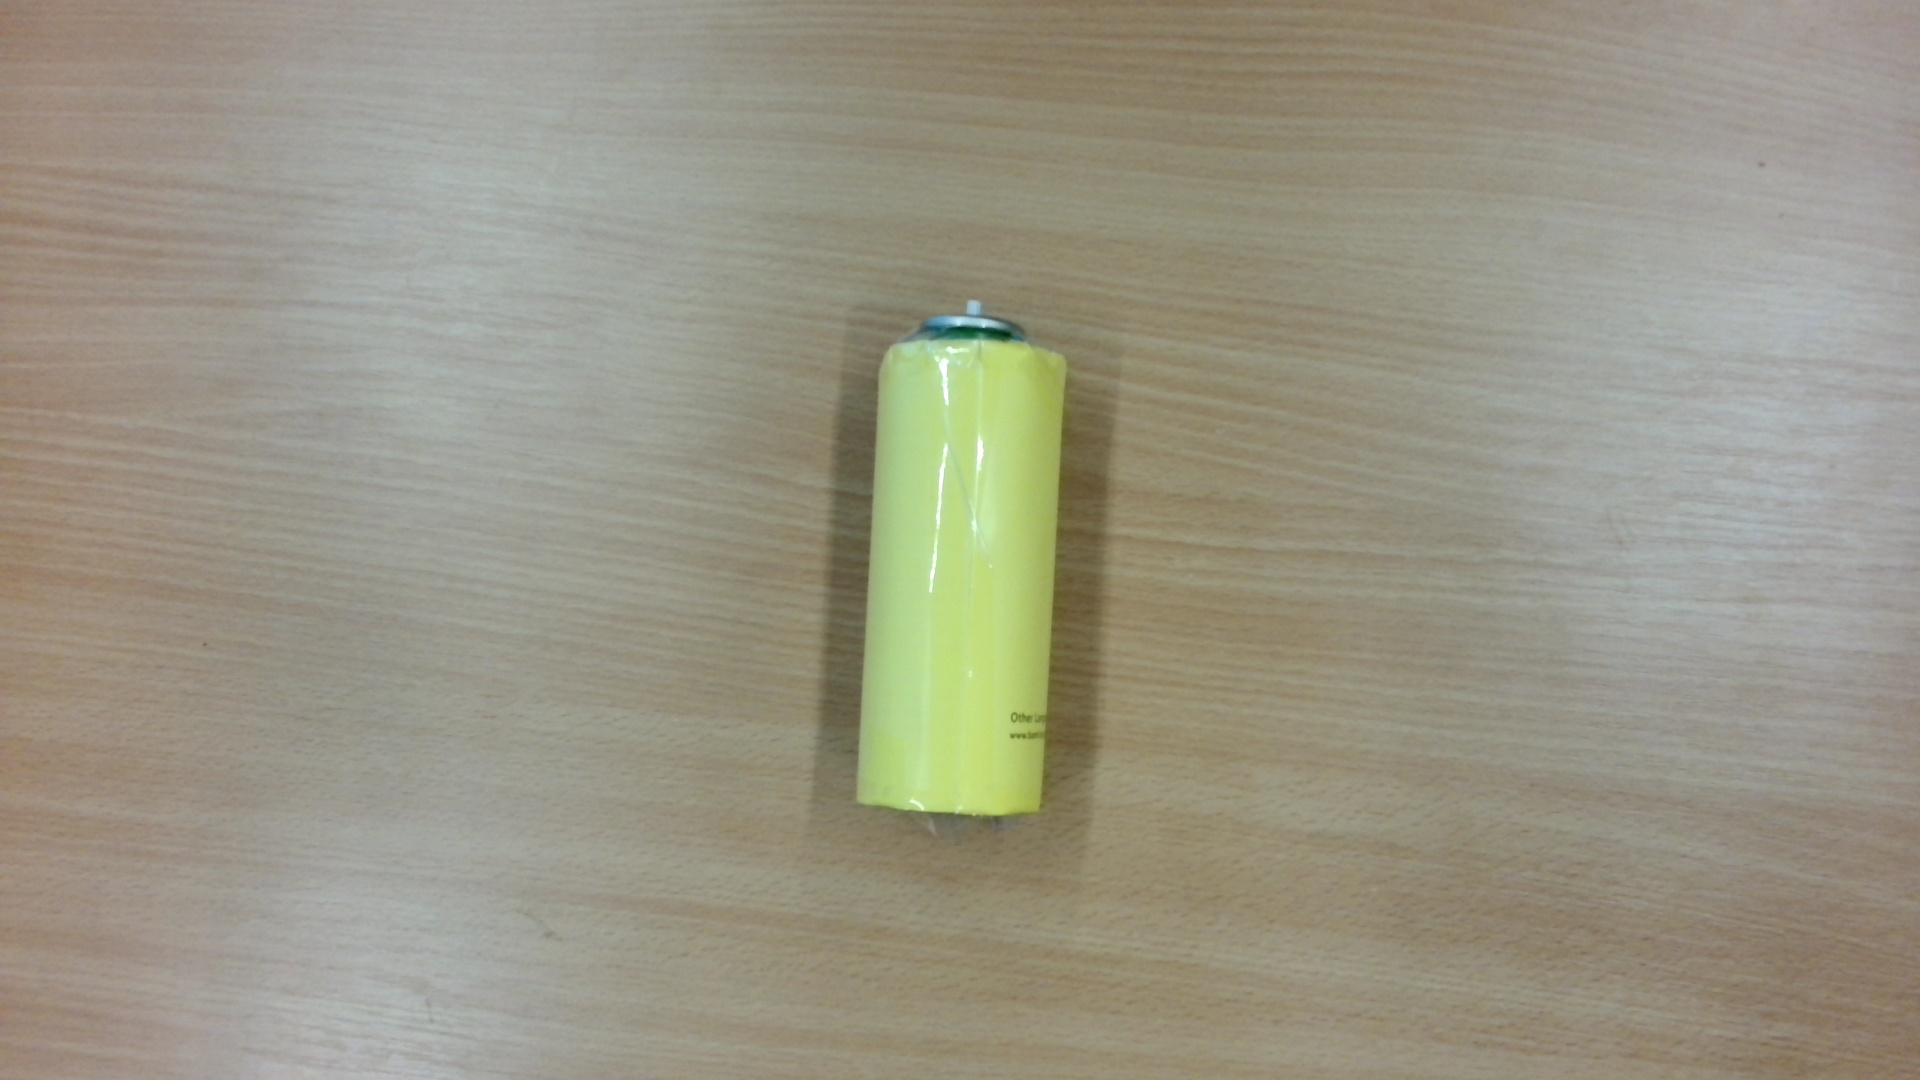Cylinder: (843, 285, 1080, 833)
